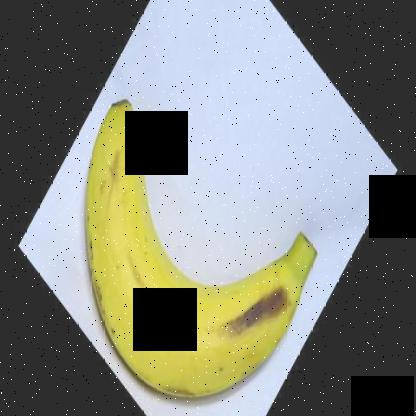freshripe: (75, 89, 331, 409)
